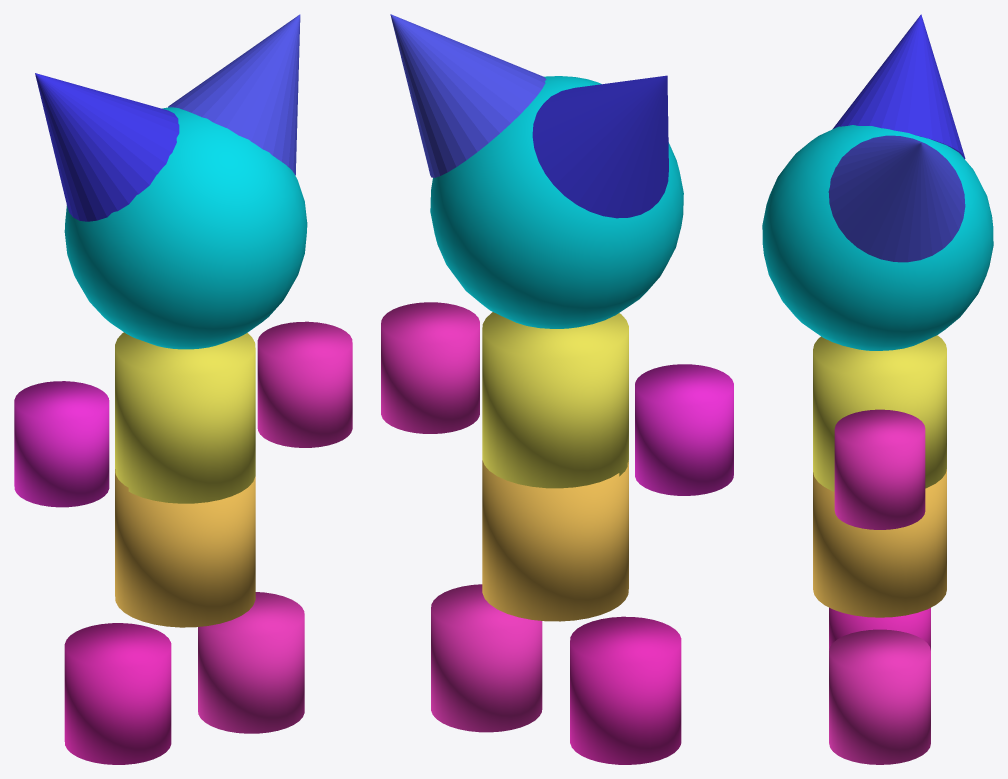
The model's file is pompom.fbx.
3 views of the same model, side by side, from view 1: azimuth 30°, elevation 25°; view 2: azimuth 150°, elevation 25°; view 3: azimuth 270°, elevation 25° (orthographic). The views are drawn at different scales.
Visible parts, largest first — view 1: Sphere, Cylinder, Cylinder.001, Cylinder.005, Cone.001, Cylinder.004, Cylinder.003, Cylinder.002, Cone; view 2: Sphere, Cylinder, Cylinder.001, Cone.001, Cylinder.005, Cylinder.004, Cone, Cylinder.003, Cylinder.002; view 3: Sphere, Cone, Cylinder.001, Cylinder.004, Cylinder, Cylinder.002, Cone.001, Cylinder.005.
Boxes of the visible parts, x1=… form: Sphere: x1=64, y1=107, x2=307, y2=349; Cylinder: x1=115, y1=332, x2=255, y2=503; Cylinder.001: x1=115, y1=469, x2=255, y2=627; Cylinder.005: x1=64, y1=623, x2=171, y2=764; Cone.001: x1=35, y1=73, x2=179, y2=221; Cylinder.004: x1=198, y1=592, x2=304, y2=733; Cylinder.003: x1=14, y1=381, x2=109, y2=507; Cylinder.002: x1=257, y1=321, x2=352, y2=447; Cone: x1=168, y1=14, x2=300, y2=175; Sphere: x1=430, y1=76, x2=683, y2=328; Cylinder: x1=482, y1=312, x2=628, y2=488; Cylinder.001: x1=482, y1=460, x2=628, y2=621; Cone.001: x1=532, y1=75, x2=668, y2=218; Cylinder.005: x1=570, y1=616, x2=681, y2=764; Cylinder.004: x1=431, y1=584, x2=542, y2=732; Cone: x1=390, y1=14, x2=546, y2=177; Cylinder.003: x1=635, y1=364, x2=733, y2=495; Cylinder.002: x1=381, y1=302, x2=479, y2=433; Sphere: x1=762, y1=125, x2=993, y2=350; Cone: x1=828, y1=135, x2=965, y2=262; Cylinder.001: x1=813, y1=469, x2=946, y2=617; Cylinder.004: x1=829, y1=629, x2=930, y2=764; Cylinder: x1=813, y1=335, x2=946, y2=491; Cylinder.002: x1=834, y1=409, x2=925, y2=529; Cone.001: x1=832, y1=14, x2=965, y2=158; Cylinder.005: x1=829, y1=607, x2=930, y2=650.
Bounding box in the file's own units: 186 × 365 × 120.
